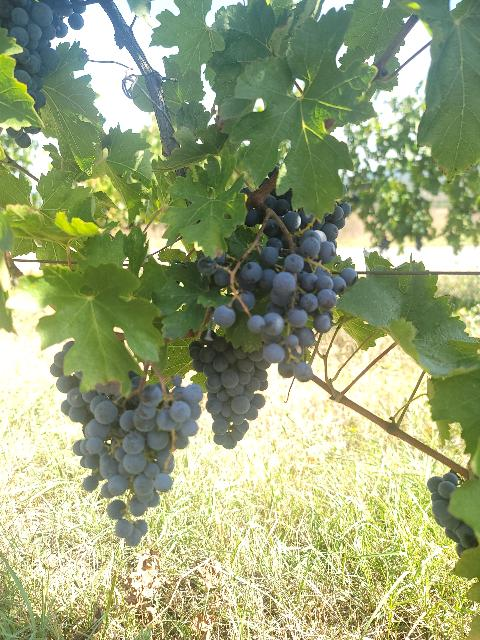grapes: (66, 376, 204, 546), (240, 244, 346, 381), (190, 336, 270, 449)
